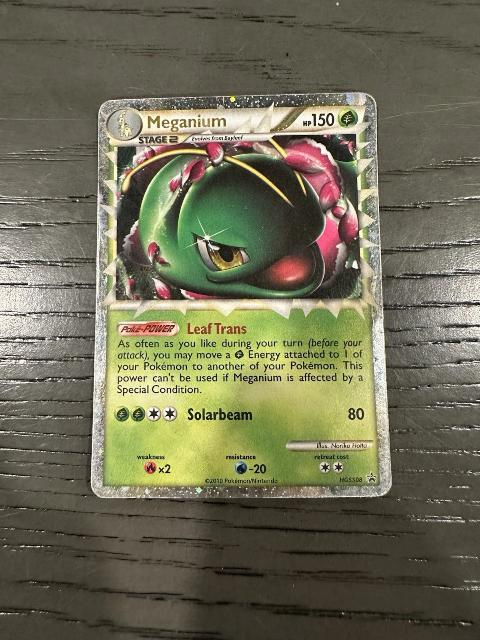Card: (88, 88, 397, 501)
Name: (141, 111, 230, 134)
